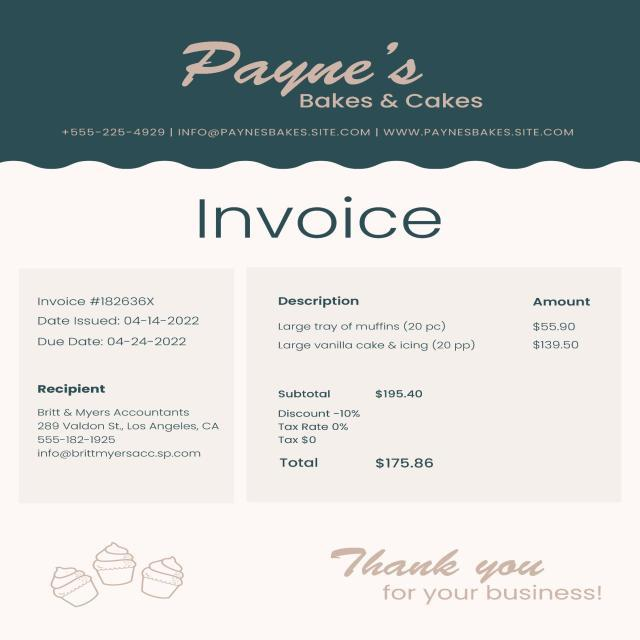ROI: (178, 26, 529, 116), (266, 281, 612, 365), (264, 373, 490, 485), (328, 533, 614, 610), (25, 372, 231, 474), (186, 183, 448, 255), (25, 286, 218, 362), (44, 121, 586, 142)
